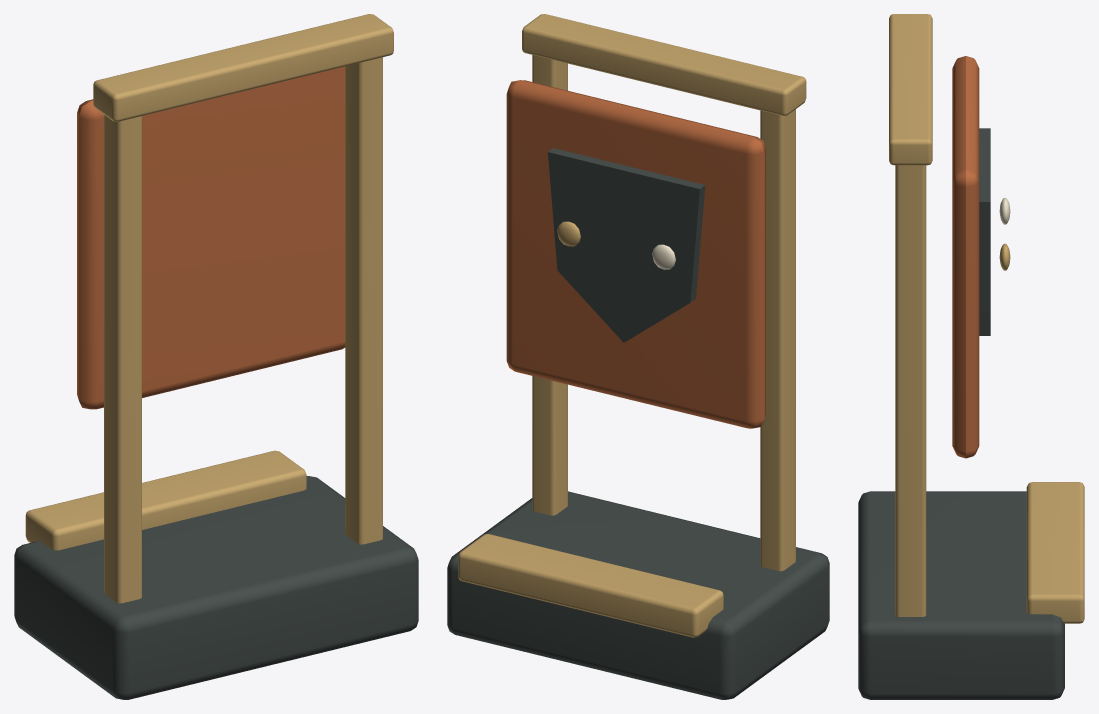
File: fanstand.copper-gulls.glb
3 renders of one model, left to right at view 1: azimuth 30°, elevation 25°; view 2: azimuth 150°, elevation 25°; view 3: azimuth 270°, elevation 25°, orthographic. The views are drawn at different scales.
Parts seen in each view (by area): view 1: Beveled pedestal; view 2: Beveled pedestal; view 3: Beveled pedestal.
Boxes of the visible parts, x1=… form: Beveled pedestal: x1=14, y1=14, x2=418, y2=699; Beveled pedestal: x1=447, y1=14, x2=829, y2=699; Beveled pedestal: x1=858, y1=14, x2=1084, y2=699.
Size of the model in its own units: 0.91 by 1.7 by 0.625.
